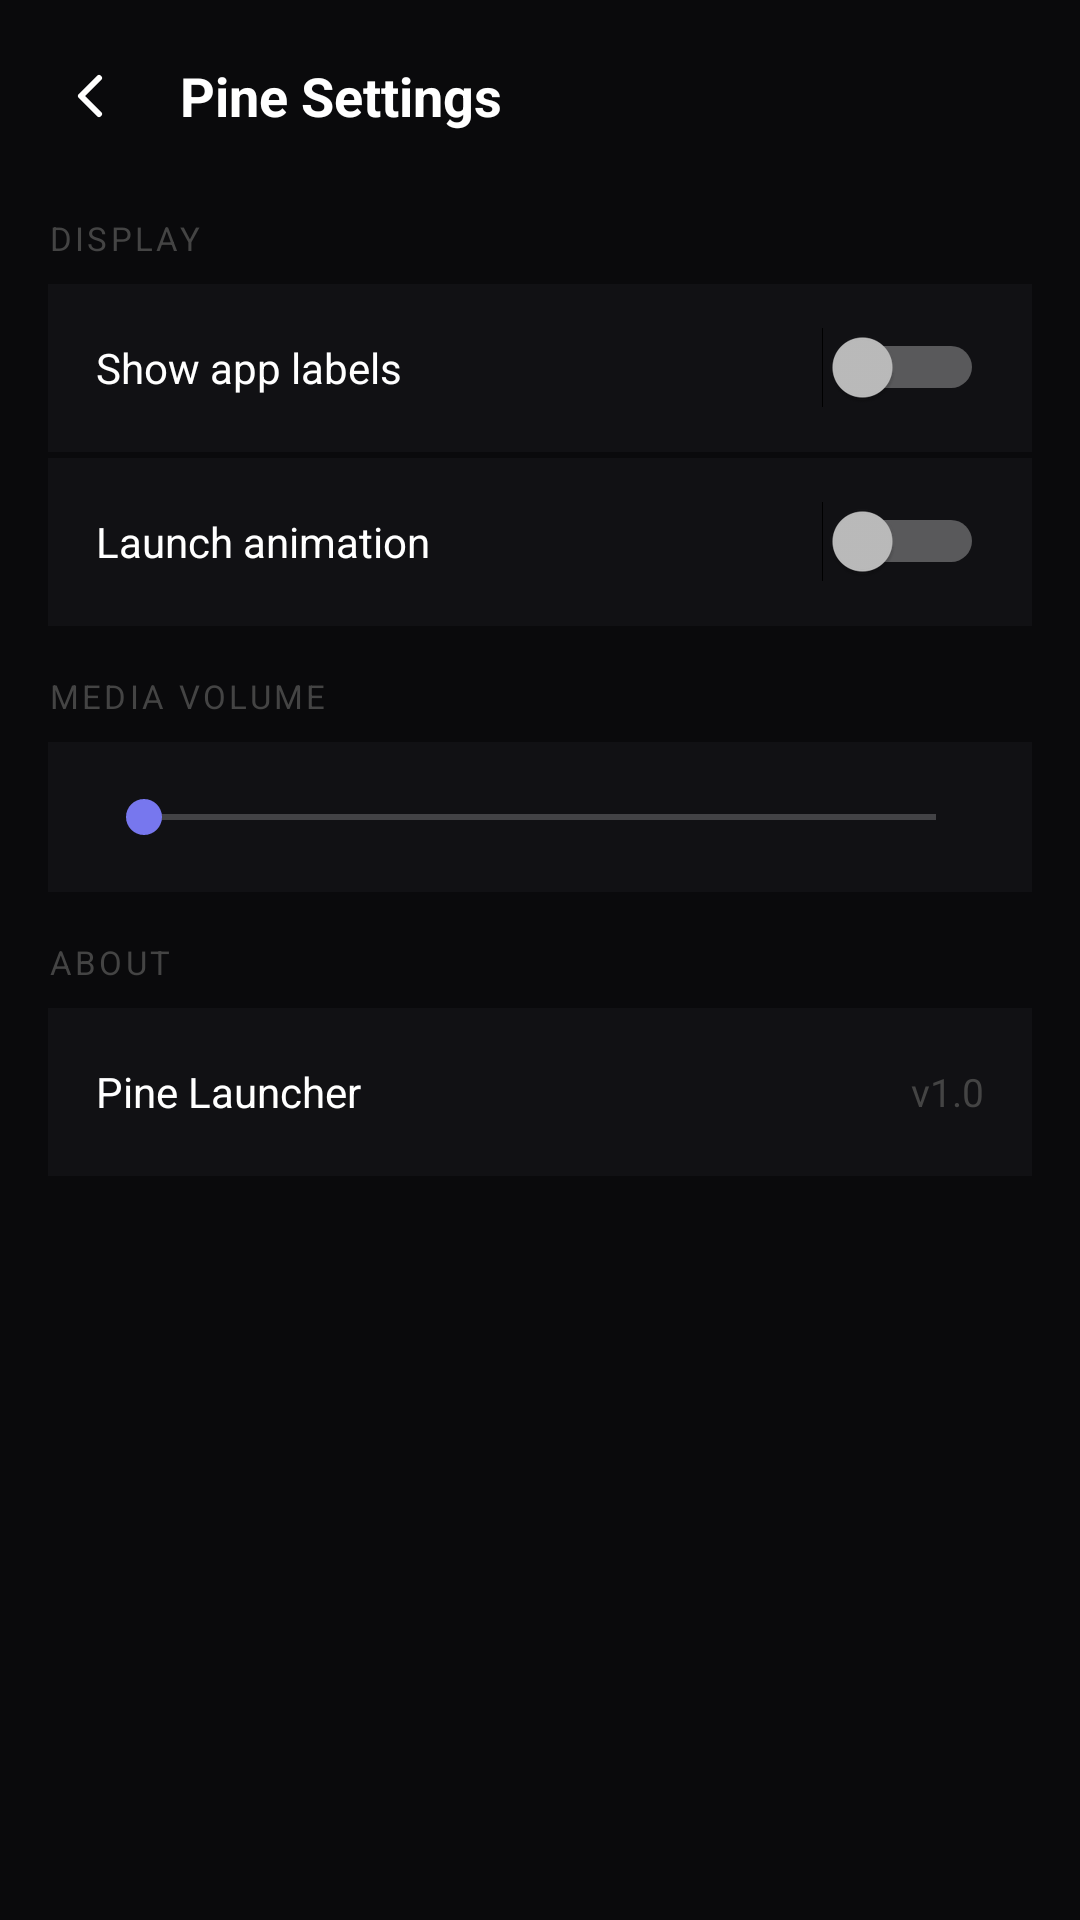

Locate icon controls on the screen. Image size 1080x1920, boxes as Rect(x1, y1, x2, y2).
back: Rect(78, 75, 102, 117)
